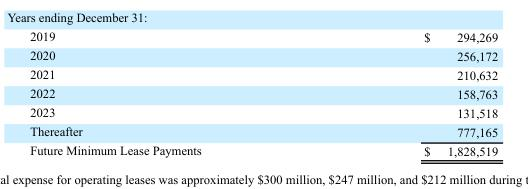table: (29, 29, 497, 157)
table column: (29, 29, 311, 157), (311, 29, 497, 157)
table row: (29, 46, 497, 65), (29, 83, 497, 102), (29, 102, 497, 121), (29, 121, 497, 140), (29, 65, 497, 83), (29, 29, 497, 46), (29, 140, 497, 157)
